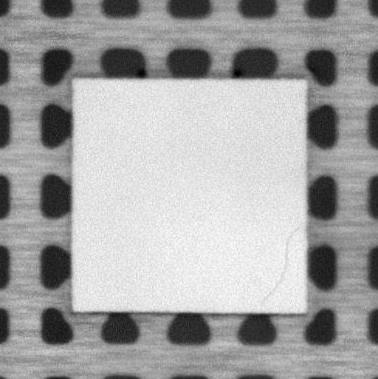DIE_CRACK: (263, 226, 301, 303)
